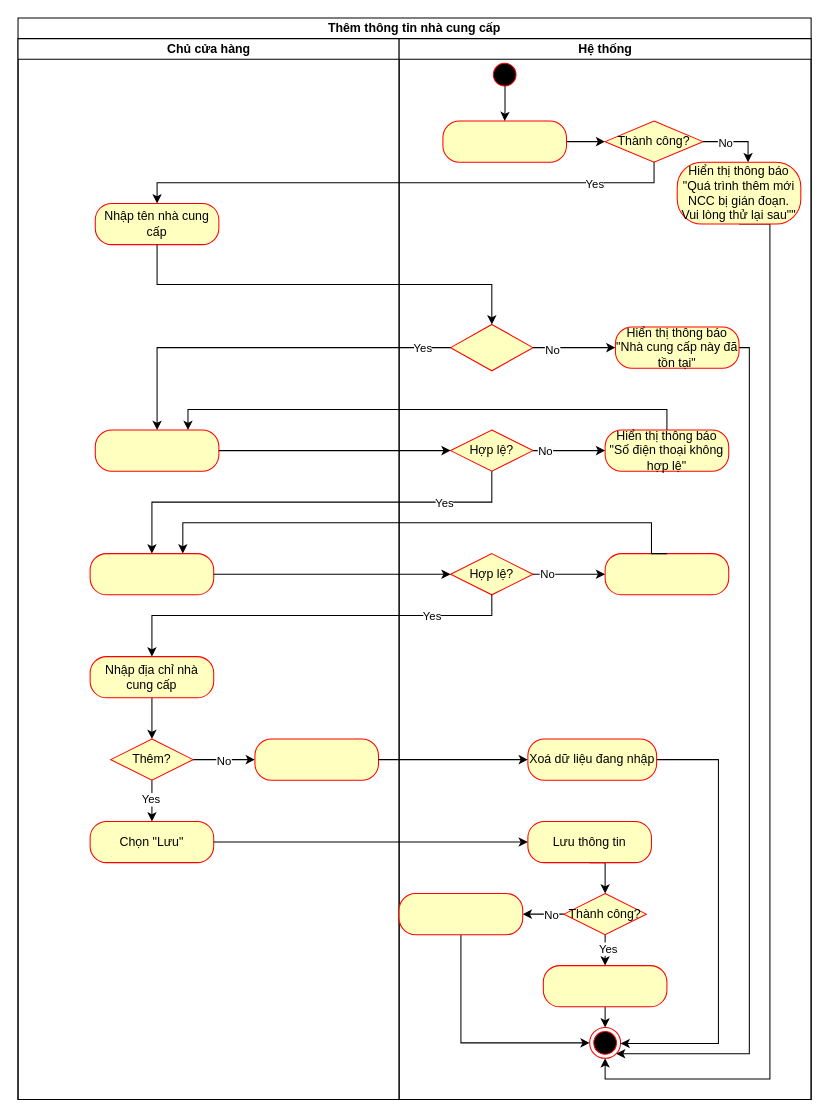
Some shapes in this 829 by 1118 pixel diagram are drawn without their labels. Each missing label, with the centre of its shape:
Chưa tồn tại?: (x=491, y=347)
Chọn "Huỷ": (x=316, y=759)
Hiển thị biểu mẫu thêm mới có sẵn mã nhà cung cấp: (x=504, y=141)
Hiển thị thông báo "Lưu không thành công": (x=460, y=913)
Hiển thị thông báo "Số tài khoản không hợp lệ": (x=666, y=574)
Hiển thị thông báo "Thêm mới nhà cung cấp thành công": (x=604, y=986)
Nhập số tài khoản nhà cung cấp: (x=151, y=574)
Nhập số điện thoại nhà cung cấp: (x=156, y=450)
